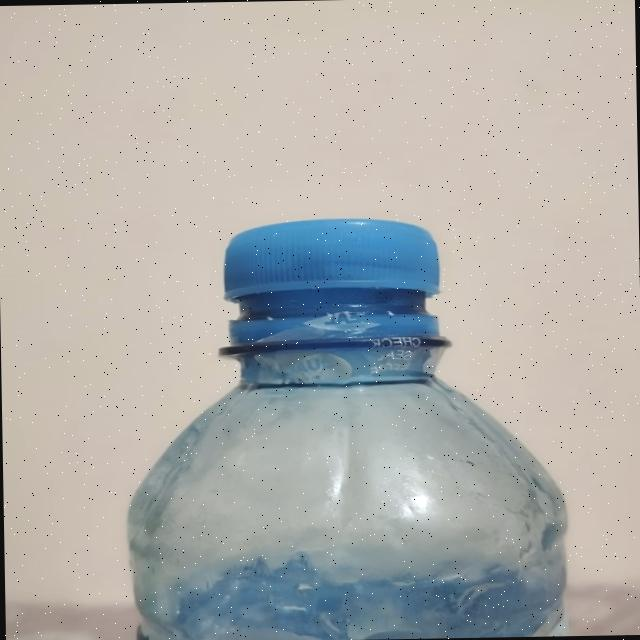bottle: (133, 191, 582, 640)
cap: (200, 202, 471, 374)
